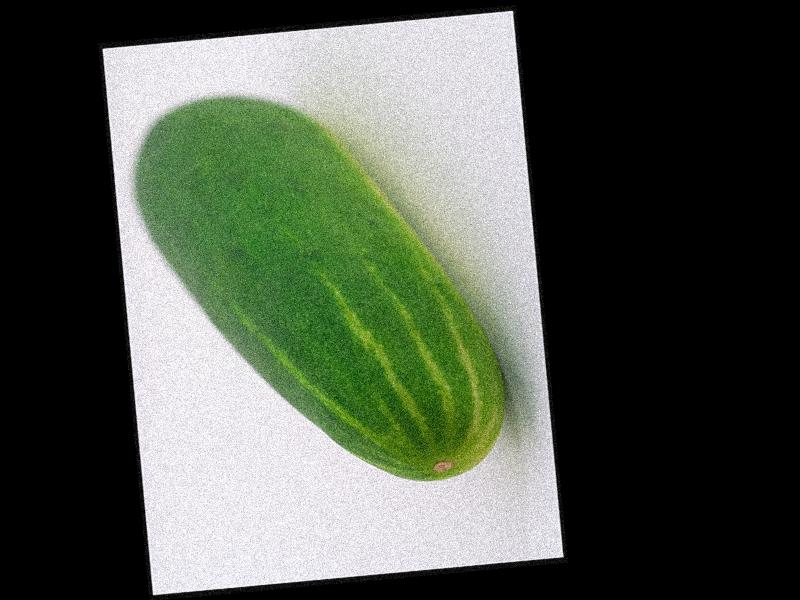Cucumber: (127, 73, 511, 504)
